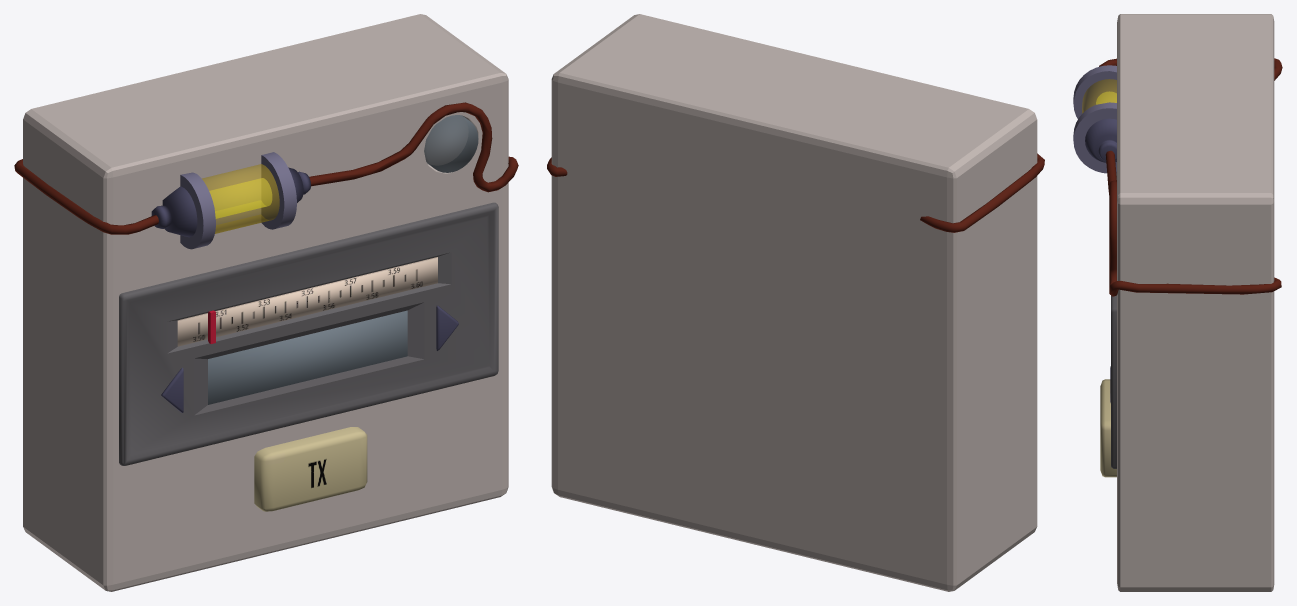
The model's file is morse.glb.
3 views of the same model, side by side, from view 1: azimuth 30°, elevation 25°; view 2: azimuth 150°, elevation 25°; view 3: azimuth 270°, elevation 25° (orthographic). The views are drawn at different scales.
Visible parts, largest first — view 1: MorseModule, Morse.Frame, Morse.Screen, Button.Tx, Morse.Screen.001, Morse.Plugs, Morse.Tube, MorseWire.Right, Light.009, MorseWire.Left, Morse.Tube.Inner, Morse.Plugs.Cap.L; view 2: MorseModule, MorseWire.Left; view 3: MorseModule, Morse.Plugs, MorseWire.Right, Button.Tx, Morse.Plugs.Cap.R, Morse.Frame, Morse.Tube.
Boxes of the visible parts, left/top/right/bottom form: MorseModule: left=23, top=14, right=508, bottom=591; Morse.Frame: left=119, top=202, right=498, bottom=465; Morse.Screen: left=208, top=310, right=407, bottom=404; Button.Tx: left=254, top=427, right=367, bottom=511; Morse.Screen.001: left=177, top=257, right=437, bottom=346; Morse.Plugs: left=180, top=152, right=296, bottom=249; Morse.Tube: left=202, top=164, right=279, bottom=233; MorseWire.Right: left=309, top=102, right=518, bottom=192; Light.009: left=424, top=115, right=478, bottom=172; MorseWire.Left: left=14, top=159, right=158, bottom=234; Morse.Tube.Inner: left=209, top=178, right=271, bottom=218; Morse.Plugs.Cap.L: left=151, top=186, right=197, bottom=237; MorseModule: left=551, top=14, right=1037, bottom=591; MorseWire.Left: left=920, top=153, right=1044, bottom=232; MorseModule: left=1117, top=14, right=1274, bottom=591; Morse.Plugs: left=1073, top=65, right=1116, bottom=173; MorseWire.Right: left=1105, top=150, right=1281, bottom=296; Button.Tx: left=1100, top=379, right=1116, bottom=477; Morse.Plugs.Cap.R: left=1085, top=118, right=1116, bottom=162; Morse.Frame: left=1111, top=173, right=1116, bottom=468; Morse.Tube: left=1082, top=79, right=1116, bottom=113.
Bounding box in the file's own units: 0.1849 × 0.1761 × 0.0837.
Materials: 12 (2 with a texture image).
